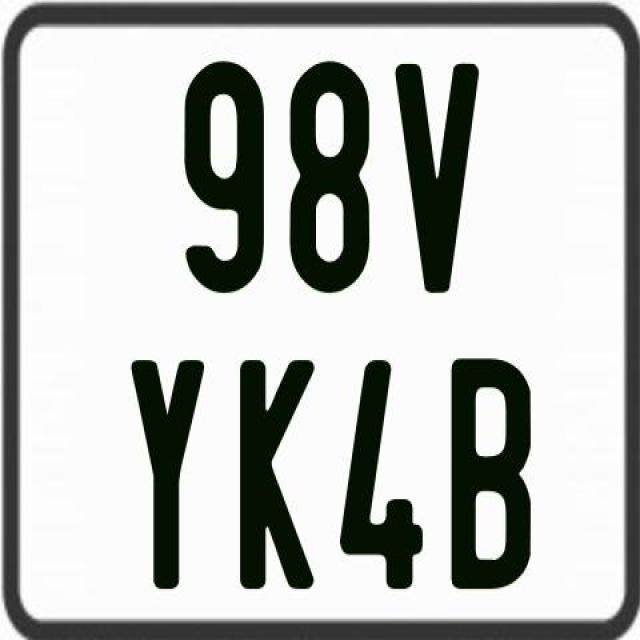4: (338, 356, 426, 594)
8: (286, 56, 374, 296)
9: (184, 58, 268, 292)
B: (450, 353, 534, 592)
K: (236, 358, 316, 594)
V: (392, 59, 476, 296)
Y: (130, 356, 204, 588)
